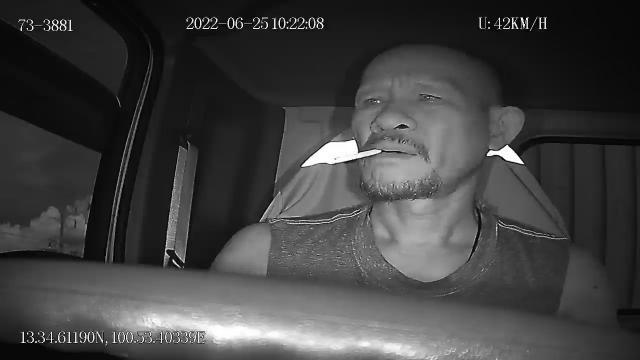SafeDriving: (408, 82, 452, 110), (356, 86, 394, 114)
Smoking: (326, 148, 382, 164)
